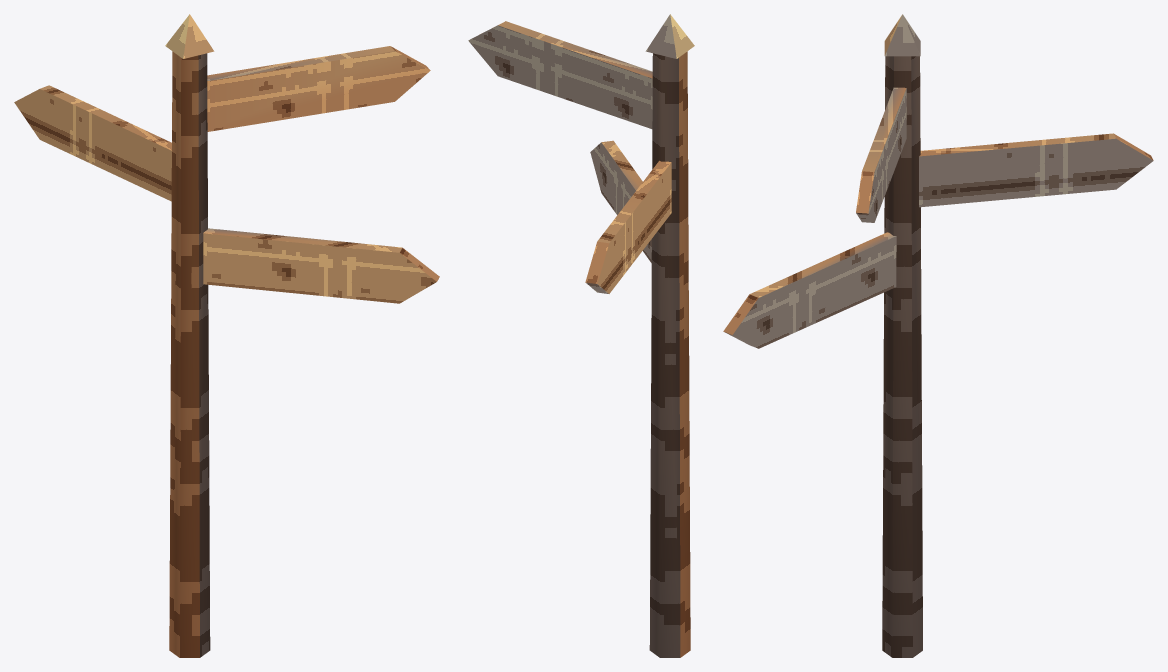
The model's file is wprop.signpost.glb.
3 views of the same model, side by side, from view 1: azimuth 30°, elevation 25°; view 2: azimuth 150°, elevation 25°; view 3: azimuth 270°, elevation 25° (orthographic).
Visible parts, largest first — view 1: kit_boards, kit_post, kit_cap; view 2: kit_post, kit_boards, kit_cap; view 3: kit_boards, kit_post, kit_cap.
Part boxes in pixels (<box>): kit_boards: <box>14,46,439,303</box>; kit_post: <box>169,51,210,657</box>; kit_cap: <box>165,14,214,58</box>; kit_post: <box>649,51,690,657</box>; kit_boards: <box>468,21,671,293</box>; kit_cap: <box>645,14,694,58</box>; kit_boards: <box>723,87,1153,348</box>; kit_post: <box>882,56,922,657</box>; kit_cap: <box>884,14,920,56</box>.
Size of the model in its own units: 1.22 by 2.75 by 1.69.
3 materials, 3 textured.
